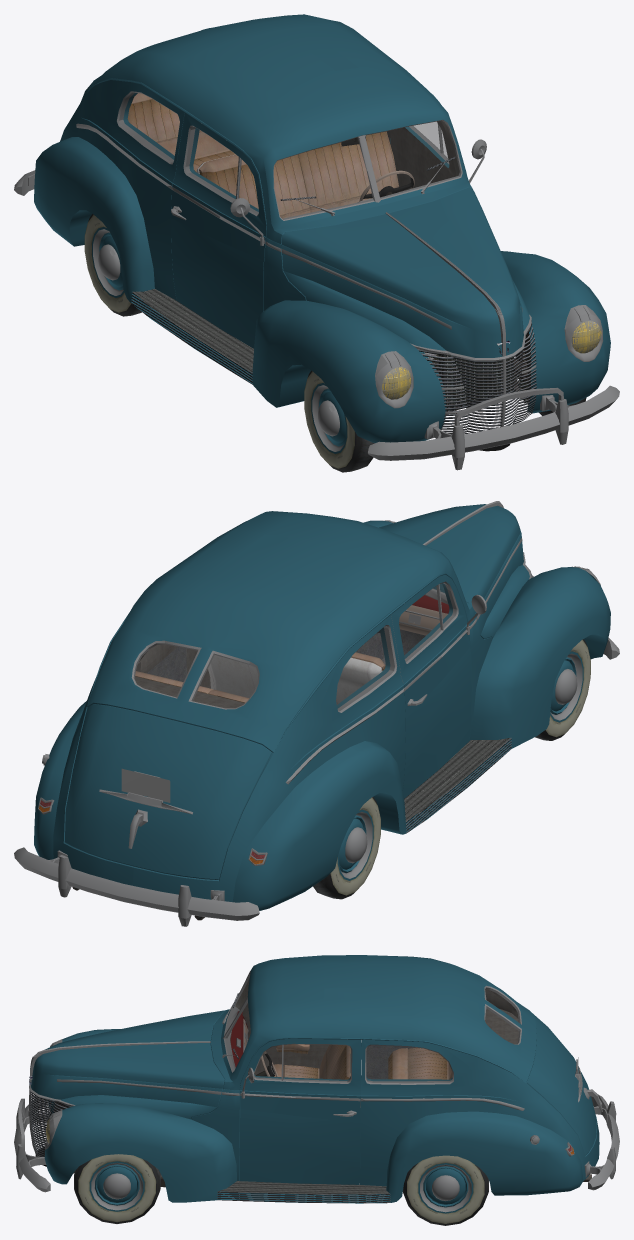
File: 1940_ford_v8.fbx
3 renders of one model, top to bottom at view 1: azimuth 30°, elevation 25°; view 2: azimuth 150°, elevation 25°; view 3: azimuth 270°, elevation 25°, orthographic. The views are drawn at different scales.
Parts seen in each view (by area): view 1: _obj12, e8_obj, b48_obj, _obj9, d17ad0_obj, cf28_obj, _obj4, e58_obj, d0bd98_obj, b90_obj, d03670_obj, b2b8_obj (+11 smaller); view 2: _obj12, f0_obj, b48_obj, e8_obj, b420_obj, b2f8_obj, e58_obj, a0_obj1, b90_obj, d03670_obj, d0bd98_obj, ec78_obj02 (+14 smaller); view 3: _obj12, e8_obj, ca8_obj, f0_obj, _obj9, d0a290_obj, e58_obj, f18_obj, ec78_obj01, ec78_obj03, b90_obj, _obj10 (+15 smaller).
Boxes of the visible parts, x1,y1,x2,y2 form: _obj12: (34,14,610,443); e8_obj: (281,187,529,357); b48_obj: (171,112,265,348); _obj9: (127,93,398,218); d17ad0_obj: (274,121,460,219); cf28_obj: (368,385,619,470); _obj4: (418,322,536,434); e58_obj: (76,91,603,408); d0bd98_obj: (186,127,258,213); b90_obj: (133,289,253,372); d03670_obj: (119,93,179,161); b2b8_obj: (390,121,456,191); _obj12: (34,511,610,910); f0_obj: (64,704,272,879); b48_obj: (391,574,471,798); e8_obj: (379,504,531,639); b420_obj: (14,847,259,926); b2f8_obj: (134,643,257,707); e58_obj: (38,520,600,865); a0_obj1: (208,655,382,704); b90_obj: (404,737,510,820); d03670_obj: (336,626,394,710); d0bd98_obj: (399,583,456,661); ec78_obj02: (313,797,380,899); _obj12: (44,955,599,1203); e8_obj: (31,1010,224,1119); ca8_obj: (239,1038,361,1184); f0_obj: (526,1014,596,1155); _obj9: (274,1044,452,1079); d0a290_obj: (254,1044,350,1081); e58_obj: (45,970,574,1184); f18_obj: (366,1045,452,1082); ec78_obj01: (74,1154,160,1223); ec78_obj03: (403,1155,489,1225); b90_obj: (218,1181,389,1194); _obj10: (217,993,390,1203).
Size of the model in its own units: 186 by 171 by 458.
23 materials, 18 textured.
